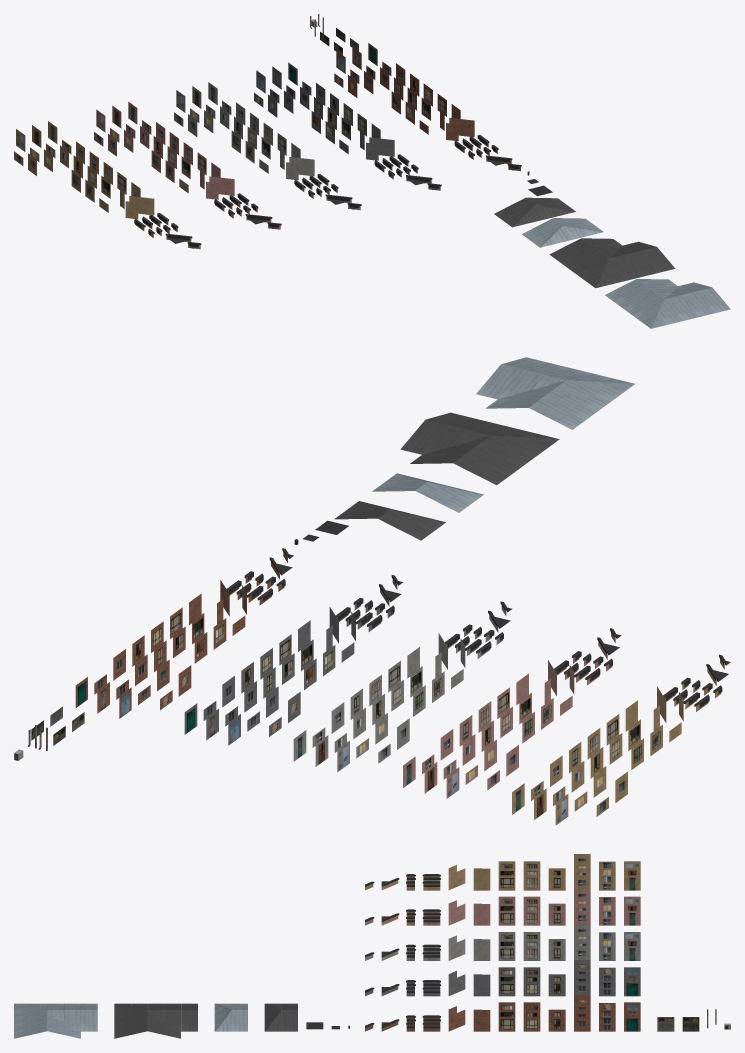
File: modular_building_kit_by_ALEX.glb
3 views of the same model, one above another, from view 1: azimuth 30°, elevation 25°; view 2: azimuth 150°, elevation 25°; view 3: azimuth 270°, elevation 25° (orthographic). The views are drawn at different scales.
Visible parts, largest first — view 1: roof_black_corner, roof_corner, roof_black_end, roof_end, roof_mid, roof_black_mid; view 2: roof_corner, roof_black_corner, roof_black_mid, roof_mid; view 3: roof_corner, roof_black_corner, roof_end, roof_black_end, roof_mid, roof_black_mid.
Part boxes in pixels (box(x1,y1,x2,y2)): roof_black_corner: box(549, 238, 675, 288); roof_corner: box(605, 279, 730, 328); roof_black_end: box(503, 204, 575, 227); roof_end: box(531, 224, 603, 247); roof_mid: box(522, 218, 594, 240); roof_black_mid: box(494, 197, 566, 220); roof_corner: box(476, 357, 634, 429); roof_black_corner: box(400, 412, 559, 485); roof_black_mid: box(334, 509, 433, 540); roof_mid: box(372, 481, 471, 512); roof_corner: box(14, 1003, 97, 1038); roof_black_corner: box(114, 1003, 197, 1038); roof_end: box(214, 1003, 231, 1031); roof_black_end: box(264, 1003, 281, 1031); roof_mid: box(231, 1003, 247, 1031); roof_black_mid: box(281, 1003, 297, 1031).
Bounding box in the file's own units: 48 × 2 × 85.8.
Materials: 6 (6 with a texture image).
